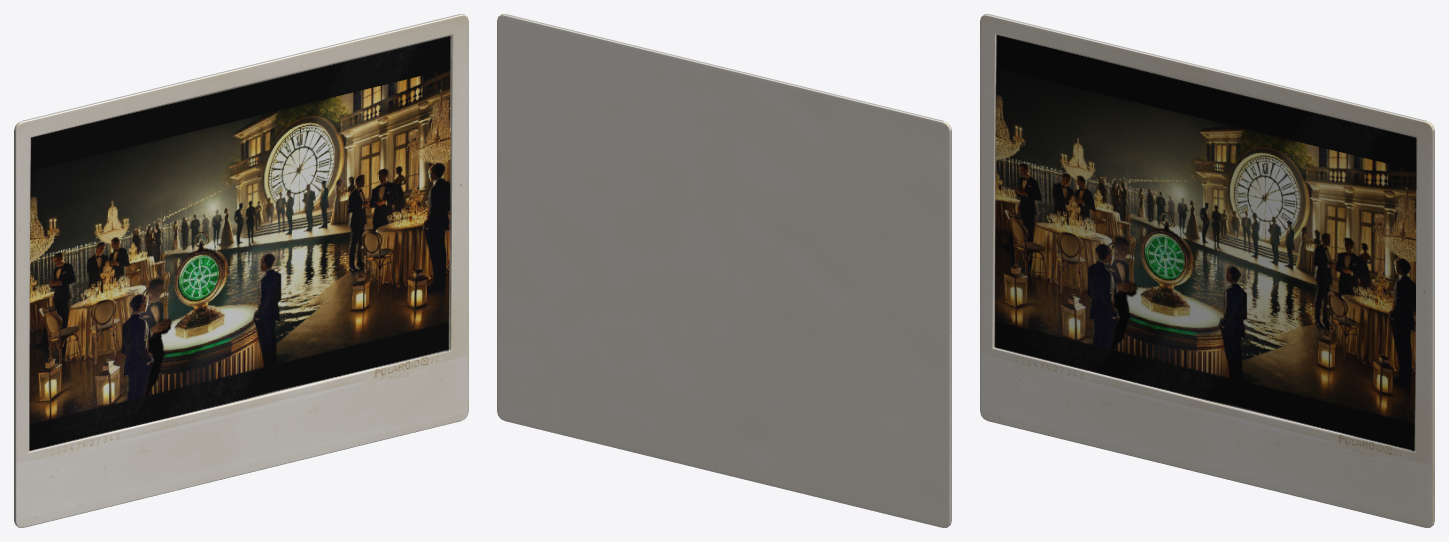
The model's file is PHOTO.gltf.
3 views of the same model, side by side, from view 1: azimuth 30°, elevation 25°; view 2: azimuth 150°, elevation 25°; view 3: azimuth 330°, elevation 25° (orthographic).
Visible parts, largest first — view 1: POLAROID_1; view 2: POLAROID_1; view 3: POLAROID_1.
Boxes of the visible parts, x1,y1,x2,y2 form: POLAROID_1: (14,14,468,527); POLAROID_1: (497,14,951,527); POLAROID_1: (980,14,1434,527).
Size of the model in its own units: 17.93 by 15.35 by 0.146.
Materials: 1 (1 with a texture image).
